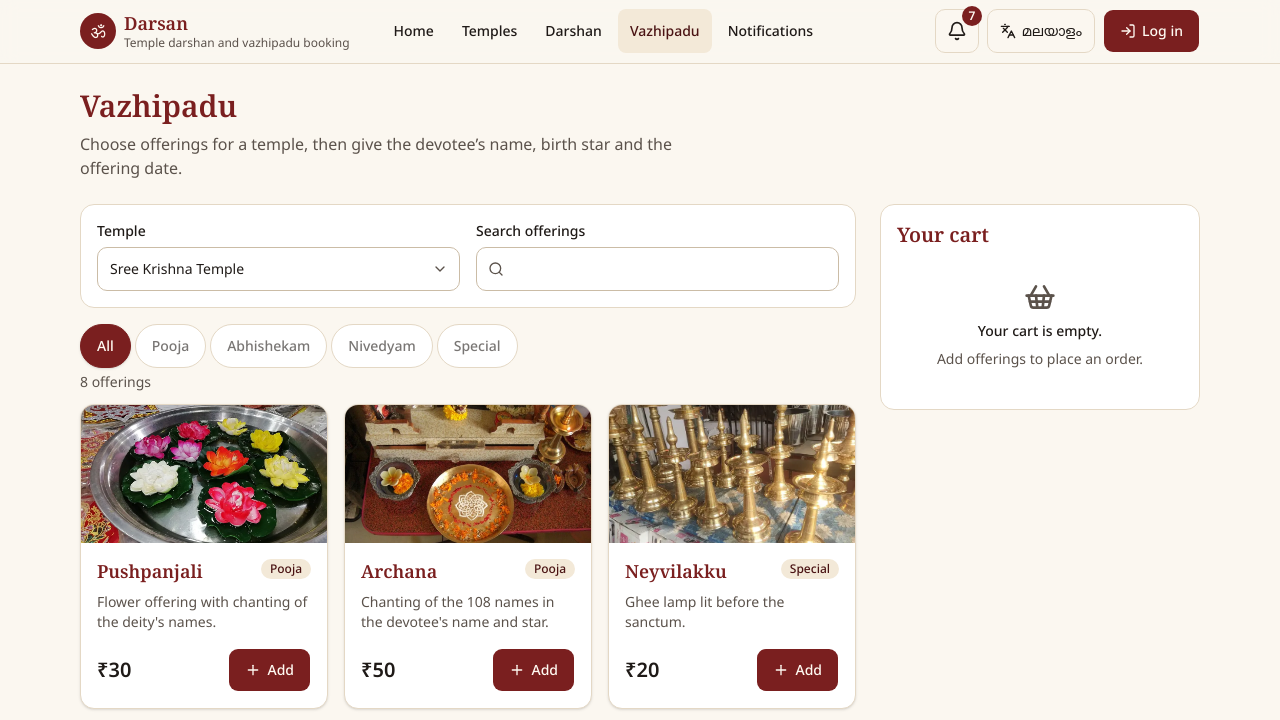
it: V2 · cart and order form › 2 × ₹30 + 1 × ₹50 = ₹110
This screenshot has width=1280, height=720.
Click the button "Add" next to "₹30" at (270, 670), box [228, 648, 311, 692]
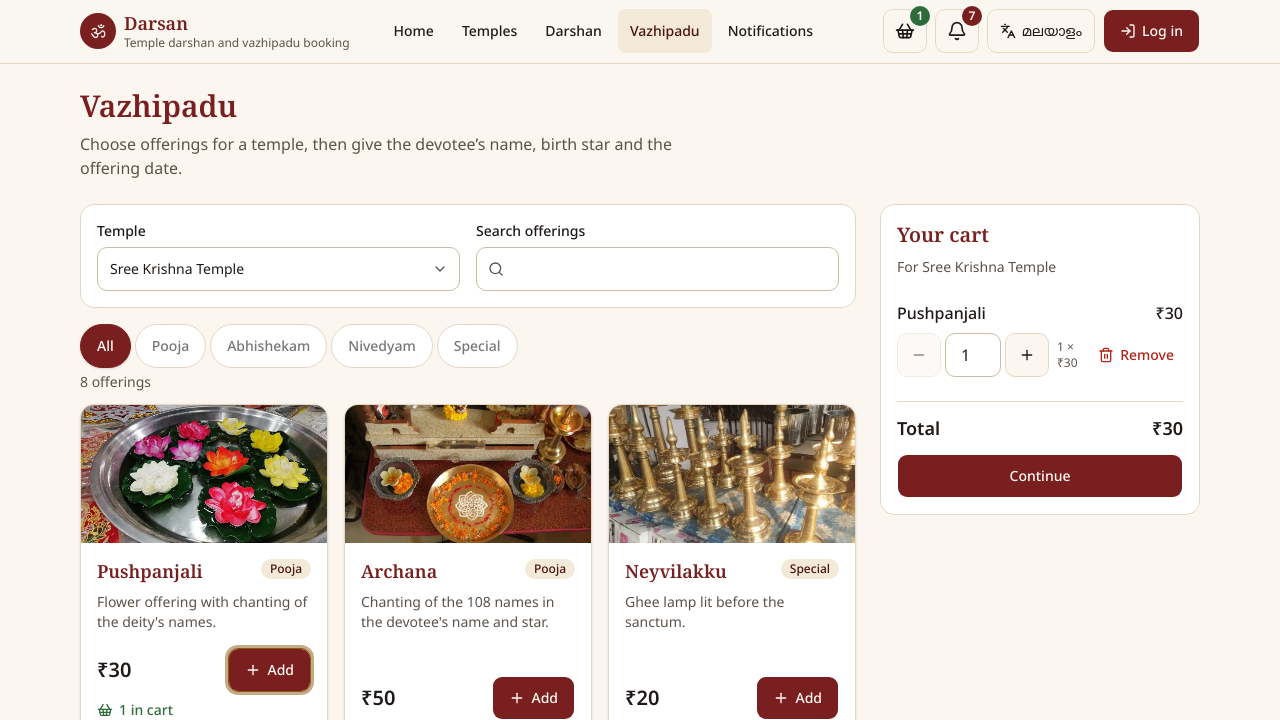
Click the 1st button "Add" at (270, 670), box [228, 648, 311, 692]
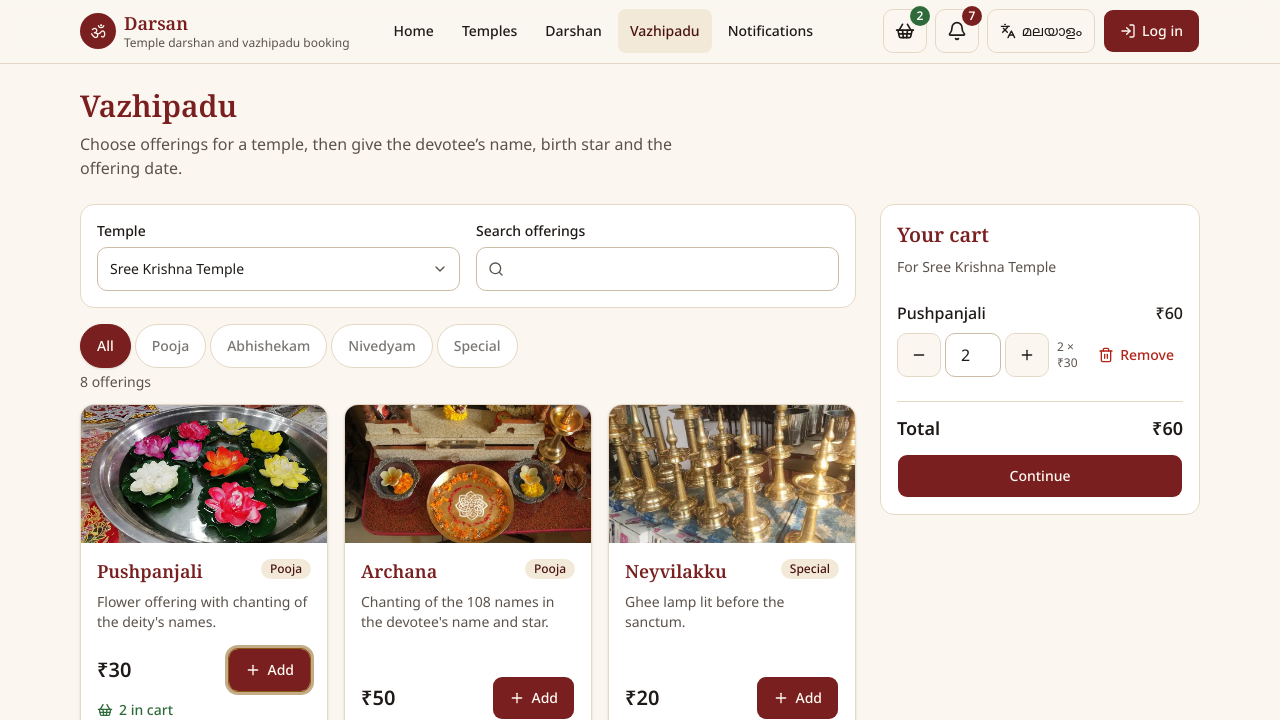
Click the button "Add" next to "₹50" at (534, 698), box [492, 676, 575, 719]
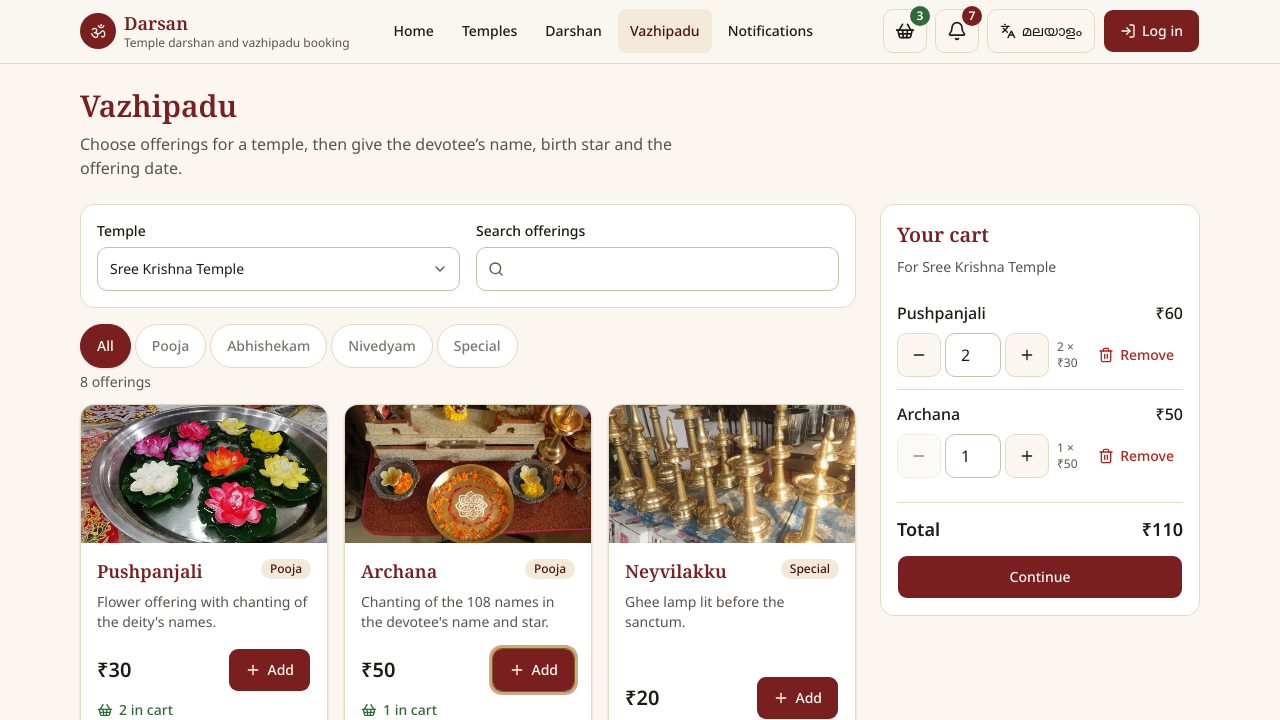
Now the number field named "Quantity of Pushpanjali" next to "2 × ₹30" holds "2", box [945, 332, 1001, 376]
Now the text "₹110" is shown, box [1142, 514, 1183, 542]
